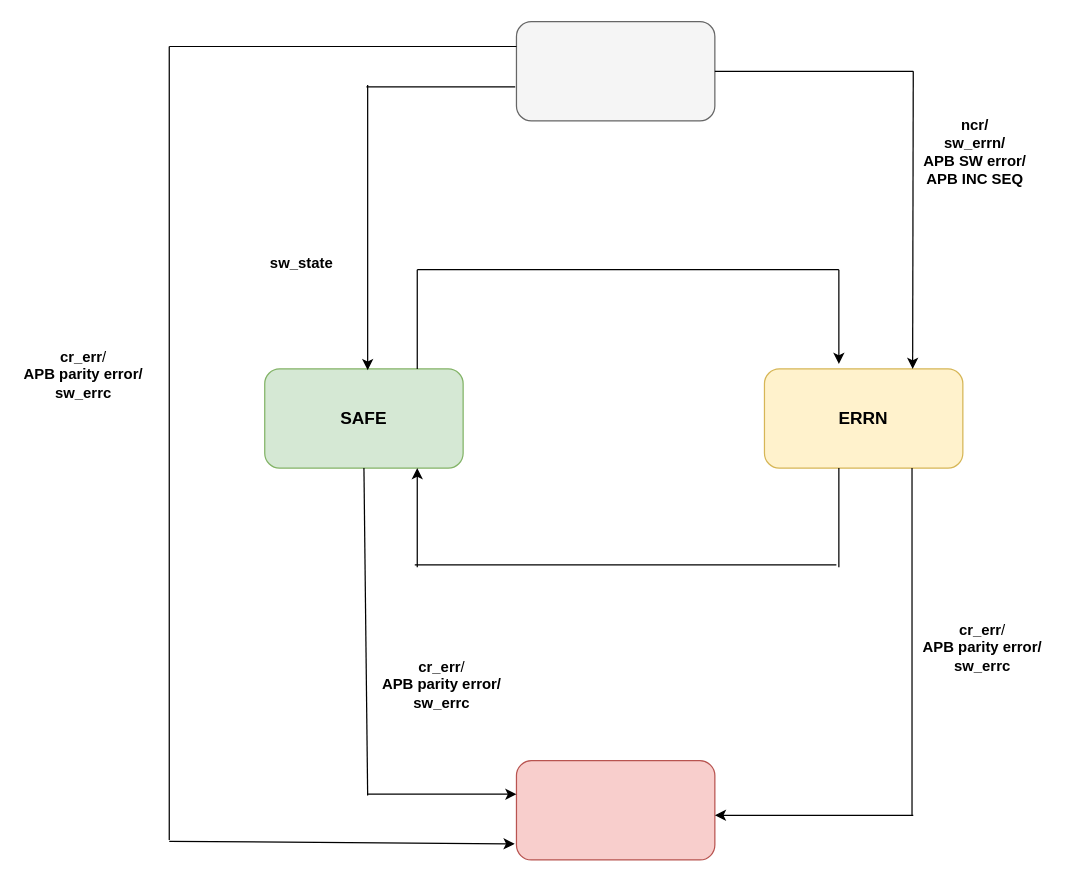
The diagram is 1065 pixels wide and 882 high, and some of its shapes have lost their labels. The box of each missing label's shape, as (x1, y1, x2, y2) in pixels:
ERRC: (515, 760, 715, 860)
TEST: (515, 20, 715, 121)
